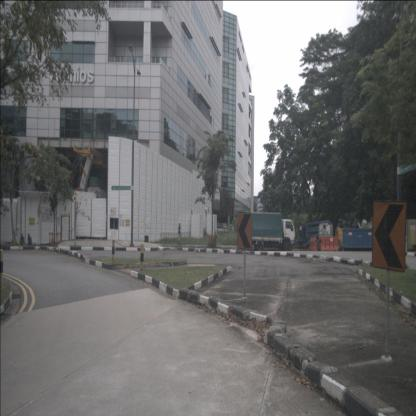barrier: (320, 234, 339, 252), (308, 236, 318, 251)
